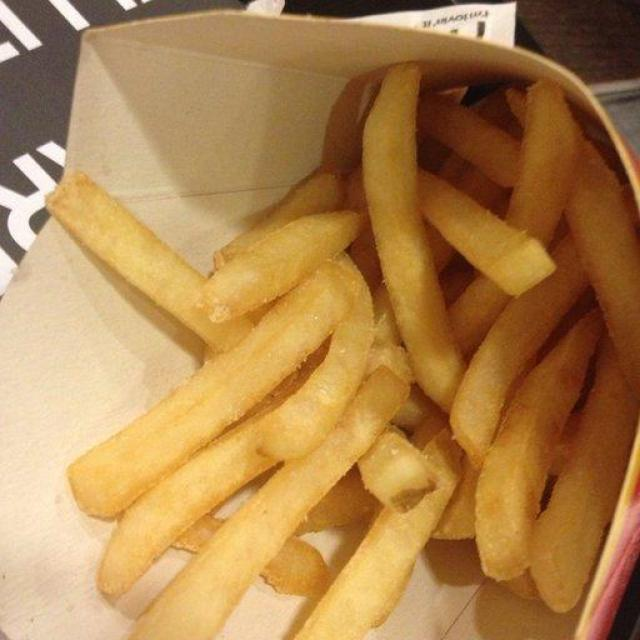food_waste: (41, 33, 640, 640)
